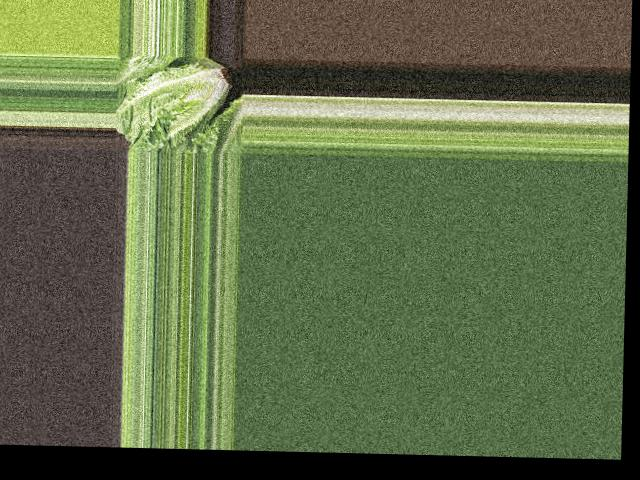lettuce: (116, 54, 238, 147)
